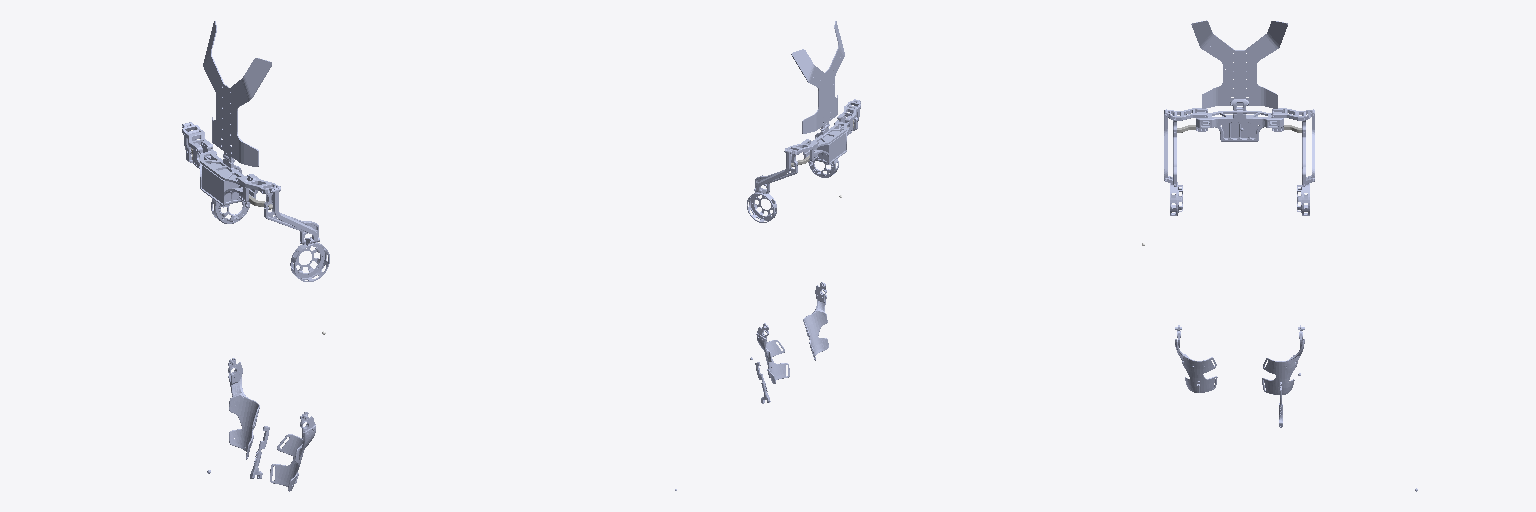
--- What the picture shows (computed from the rendered views, not written in the file) ---
The picture shows the robot from 3 angles, left to right: view 1: azimuth 30°, elevation 25°; view 2: azimuth 150°, elevation 25°; view 3: azimuth 270°, elevation 25°; orthographic projection.
Model all18.sldasm with 22 links and 21 joints (21 continuous), rooted at base_link, posed every joint at zero.
Visible links, largest first — view 1: up, base, kl, kr, LGR3; view 2: up, base, kr, kl, LGL3; view 3: up, base, kl, kr.
Boxes of the visible links, x1,y1,x2,y2 form: up: (203,21,271,166); base: (193,141,257,205); kl: (228,358,259,459); kr: (270,412,315,491); LGR3: (290,237,329,281); up: (791,21,844,133); base: (803,114,852,163); kr: (803,282,828,360); kl: (756,323,789,383); LGL3: (747,188,776,222); up: (1191,20,1287,113); base: (1196,109,1283,141); kl: (1262,325,1304,394); kr: (1175,325,1217,392).
Bounding box of the posed robot: 0.3131 × 0.8555 × 1.5 m (x, y, z).
Meshes: 22 distinct files referenced, 19 mesh visuals loaded (19 binary STL); not drawn: 3 (reference not matched to a file when rendering).

URDF robot description (all18.sldasm):
<?xml version="1.0" encoding="utf-8"?>
<!-- This URDF was automatically created by SolidWorks to URDF Exporter! Originally created by Stephen Brawner ([email redacted]) 
     Commit Version: 1.5.1-0-g916b5db  Build Version: 1.5.7152.31018
     For more information, please see http://wiki.ros.org/sw_urdf_exporter -->
<robot
  name="all18.sldasm">
  <link
    name="base_link">
    <inertial>
      <origin
        xyz="0.0333792456099275 0.00696796132744282 -0.181820132036536"
        rpy="0 0 0" />
      <mass
        value="0.000523598775598299" />
      <inertia
        ixx="5.23598775598299E-09"
        ixy="-3.14694645605544E-41"
        ixz="-4.97841222228891E-56"
        iyy="5.23598775598299E-09"
        iyz="0"
        izz="5.23598775598299E-09" />
    </inertial>
    <visual>
      <origin
        xyz="0 0 0"
        rpy="0 0 0" />
      <geometry>
        <mesh
          filename="package://all18.sldasm/meshes/base_link.STL" />
      </geometry>
      <material
        name="">
        <color
          rgba="0.792156862745098 0.819607843137255 0.933333333333333 1" />
      </material>
    </visual>
    <collision>
      <origin
        xyz="0 0 0"
        rpy="0 0 0" />
      <geometry>
        <mesh
          filename="package://all18.sldasm/meshes/base_link.STL" />
      </geometry>
    </collision>
  </link>
  <link
    name="base">
    <inertial>
      <origin
        xyz="-0.0191214293937686 0.0210000899951462 -0.0564412527734638"
        rpy="0 0 0" />
      <mass
        value="0.497818026810933" />
      <inertia
        ixx="0.00183492237382758"
        ixy="-2.81215869790794E-09"
        ixz="-6.12233490314299E-06"
        iyy="0.000327236183202989"
        iyz="-1.52757729457466E-09"
        izz="0.00171964399163047" />
    </inertial>
    <visual>
      <origin
        xyz="0 0 0"
        rpy="0 0 0" />
      <geometry>
        <mesh
          filename="package://all18.sldasm/meshes/base.STL" />
      </geometry>
      <material
        name="">
        <color
          rgba="0.792156862745098 0.819607843137255 0.933333333333333 1" />
      </material>
    </visual>
    <collision>
      <origin
        xyz="0 0 0"
        rpy="0 0 0" />
      <geometry>
        <mesh
          filename="package://all18.sldasm/meshes/base.STL" />
      </geometry>
    </collision>
  </link>
  <joint
    name="jbase"
    type="continuous">
    <origin
      xyz="0.00400000000000071 -0.0210004689290468 -0.135354546704202"
      rpy="0 0 0" />
    <parent
      link="base_link" />
    <child
      link="base" />
    <axis
      xyz="0 1 0" />
  </joint>
  <link
    name="up">
    <inertial>
      <origin
        xyz="-0.000358969853697724 0.0210176681596711 0.143821678022038"
        rpy="0 0 0" />
      <mass
        value="0.145045484251342" />
      <inertia
        ixx="0.00183495811461002"
        ixy="1.00718350566443E-08"
        ixz="-5.28890803610092E-05"
        iyy="0.0011112557556715"
        iyz="-5.85295320638727E-08"
        izz="0.000750996955240693" />
    </inertial>
    <visual>
      <origin
        xyz="0 0 0"
        rpy="0 0 0" />
      <geometry>
        <mesh
          filename="package://all18.sldasm/meshes/up.STL" />
      </geometry>
      <material
        name="">
        <color
          rgba="0.792156862745098 0.819607843137255 0.933333333333333 1" />
      </material>
    </visual>
    <collision>
      <origin
        xyz="0 0 0"
        rpy="0 0 0" />
      <geometry>
        <mesh
          filename="package://all18.sldasm/meshes/up.STL" />
      </geometry>
    </collision>
  </link>
  <joint
    name="jup"
    type="continuous">
    <origin
      xyz="0 0 0"
      rpy="0 0 0" />
    <parent
      link="base" />
    <child
      link="up" />
    <axis
      xyz="0 1 0" />
  </joint>
  <link
    name="hl0">
    <inertial>
      <origin
        xyz="-0.012444043654672 0.0630330454718175 0.00126114384973358"
        rpy="0 0 0" />
      <mass
        value="0.0345606498251114" />
      <inertia
        ixx="4.0820399272762E-05"
        ixy="-9.51733838576895E-06"
        ixz="-3.89843594001045E-07"
        iyy="1.29632372529317E-05"
        iyz="-2.23840344717383E-06"
        izz="5.24441566488473E-05" />
    </inertial>
    <visual>
      <origin
        xyz="0 0 0"
        rpy="0 0 0" />
      <geometry>
        <mesh
          filename="package://all18.sldasm/meshes/hl0.STL" />
      </geometry>
      <material
        name="">
        <color
          rgba="0.792156862745098 0.819607843137255 0.933333333333333 1" />
      </material>
    </visual>
    <collision>
      <origin
        xyz="0 0 0"
        rpy="0 0 0" />
      <geometry>
        <mesh
          filename="package://all18.sldasm/meshes/hl0.STL" />
      </geometry>
    </collision>
  </link>
  <joint
    name="jhl0"
    type="continuous">
    <origin
      xyz="0.0119999999999987 0.126 -0.00999999999999812"
      rpy="0 0 0" />
    <parent
      link="base" />
    <child
      link="hl0" />
    <axis
      xyz="-1 0 0" />
  </joint>
  <link
    name="LGL2">
    <inertial>
      <origin
        xyz="0.0303402345828551 -0.000238949225249835 -0.0921190713255071"
        rpy="0 0 0" />
      <mass
        value="0.0480025209039811" />
      <inertia
        ixx="0.000111770026393275"
        ixy="-1.92086992344369E-09"
        ixz="0.000102318757127282"
        iyy="0.000234605578738602"
        iyz="-1.8790706655784E-08"
        izz="0.000123763363972141" />
    </inertial>
    <visual>
      <origin
        xyz="0 0 0"
        rpy="0 0 0" />
      <geometry>
        <mesh
          filename="package://all18.sldasm/meshes/LGL2.STL" />
      </geometry>
      <material
        name="">
        <color
          rgba="0.792156862745098 0.819607843137255 0.933333333333333 1" />
      </material>
    </visual>
    <collision>
      <origin
        xyz="0 0 0"
        rpy="0 0 0" />
      <geometry>
        <mesh
          filename="package://all18.sldasm/meshes/LGL2.STL" />
      </geometry>
    </collision>
  </link>
  <joint
    name="JLGL2"
    type="continuous">
    <origin
      xyz="0.0199999999999986 0.0949999999999874 0"
      rpy="0 0 0" />
    <parent
      link="hl0" />
    <child
      link="LGL2" />
    <axis
      xyz="1 0 0" />
  </joint>
  <link
    name="LGL3">
    <inertial>
      <origin
        xyz="-0.0259705484850737 -0.000999385124667941 -0.0433603663769984"
        rpy="0 0 0" />
      <mass
        value="0.0440449672148023" />
      <inertia
        ixx="7.38602754378877E-05"
        ixy="2.68585858225746E-08"
        ixz="2.22587431264711E-08"
        iyy="0.000101802073587482"
        iyz="-8.37820730757103E-06"
        izz="4.16167541378933E-05" />
    </inertial>
    <visual>
      <origin
        xyz="0 0 0"
        rpy="0 0 0" />
      <geometry>
        <mesh
          filename="package://all18.sldasm/meshes/LGL3.STL" />
      </geometry>
      <material
        name="">
        <color
          rgba="0.792156862745098 0.819607843137255 0.933333333333333 1" />
      </material>
    </visual>
    <collision>
      <origin
        xyz="0 0 0"
        rpy="0 0 0" />
      <geometry>
        <mesh
          filename="package://all18.sldasm/meshes/LGL3.STL" />
      </geometry>
    </collision>
  </link>
  <joint
    name="JLGL3"
    type="continuous">
    <origin
      xyz="0.118500000000001 0 -0.169999997278064"
      rpy="0 0 0" />
    <parent
      link="LGL2" />
    <child
      link="LGL3" />
    <axis
      xyz="-1 0 0" />
  </joint>
  <link
    name="LGL4">
    <inertial>
      <origin
        xyz="-0.0815101633243112 0.00090998729349458 0.0773021473229439"
        rpy="0 0 0" />
      <mass
        value="0.0247761471784957" />
      <inertia
        ixx="5.74694326140297E-05"
        ixy="1.68748777548126E-07"
        ixz="4.91847237830646E-05"
        iyy="0.000105893052871461"
        iyz="-8.42574317637952E-08"
        izz="4.90008441529051E-05" />
    </inertial>
    <visual>
      <origin
        xyz="0 0 0"
        rpy="0 0 0" />
      <geometry>
        <mesh
          filename="package://all18.sldasm/meshes/LGL4.STL" />
      </geometry>
      <material
        name="">
        <color
          rgba="0.792156862745098 0.819607843137255 0.933333333333333 1" />
      </material>
    </visual>
    <collision>
      <origin
        xyz="0 0 0"
        rpy="0 0 0" />
      <geometry>
        <mesh
          filename="package://all18.sldasm/meshes/LGL4.STL" />
      </geometry>
    </collision>
  </link>
  <joint
    name="JLGL4"
    type="continuous">
    <origin
      xyz="-0.0125 0.0281907786235769 0.0102606042997705"
      rpy="0 0 0" />
    <parent
      link="LGL3" />
    <child
      link="LGL4" />
    <axis
      xyz="1 0 0" />
  </joint>
  <link
    name="Q">
    <inertial>
      <origin
        xyz="0.00737924560992977 -0.221222347469288 -0.046726143074364"
        rpy="0 0 0" />
      <mass
        value="0.000523598775598299" />
      <inertia
        ixx="5.23598775598299E-09"
        ixy="-3.14694645605544E-41"
        ixz="-4.97841222228891E-56"
        iyy="5.23598775598299E-09"
        iyz="0"
        izz="5.23598775598299E-09" />
    </inertial>
    <visual>
      <origin
        xyz="0 0 0"
        rpy="0 0 0" />
      <geometry>
        <mesh
          filename="package://all18.sldasm/meshes/Q.STL" />
      </geometry>
      <material
        name="">
        <color
          rgba="0.792156862745098 0.819607843137255 0.933333333333333 1" />
      </material>
    </visual>
    <collision>
      <origin
        xyz="0 0 0"
        rpy="0 0 0" />
      <geometry>
        <mesh
          filename="package://all18.sldasm/meshes/Q.STL" />
      </geometry>
    </collision>
  </link>
  <joint
    name="JQ"
    type="continuous">
    <origin
      xyz="-0.116000000000001 0 0.169999999744713"
      rpy="0 0 0" />
    <parent
      link="LGL4" />
    <child
      link="Q" />
    <axis
      xyz="1 0 0" />
  </joint>
  <link
    name="hl1">
    <inertial>
      <origin
        xyz="0.0133498937147595 -0.0238046214490557 -0.172664834958128"
        rpy="0 0 0" />
      <mass
        value="1.01104308189925" />
      <inertia
        ixx="0.00145265002912084"
        ixy="8.0433424924099E-05"
        ixz="-0.000112470355803545"
        iyy="0.00176407136725321"
        iyz="-1.28353527421716E-05"
        izz="0.000926948423015179" />
    </inertial>
    <visual>
      <origin
        xyz="0 0 0"
        rpy="0 0 0" />
      <geometry>
        <mesh
          filename="package://all18.sldasm/meshes/hl1.STL" />
      </geometry>
      <material
        name="">
        <color
          rgba="0.792156862745098 0.819607843137255 0.933333333333333 1" />
      </material>
    </visual>
    <collision>
      <origin
        xyz="0 0 0"
        rpy="0 0 0" />
      <geometry>
        <mesh
          filename="package://all18.sldasm/meshes/hl1.STL" />
      </geometry>
    </collision>
  </link>
  <joint
    name="jhl1"
    type="continuous">
    <origin
      xyz="-0.0260000021964453 0.00514093216985746 -0.06179130036624"
      rpy="0 0 0" />
    <parent
      link="LGL3" />
    <child
      link="hl1" />
    <axis
      xyz="0 1 0" />
  </joint>
  <link
    name="kl">
    <inertial>
      <origin
        xyz="0.0333224268442176 -0.0406715046714338 -0.0929075490419892"
        rpy="0 0 0" />
      <mass
        value="0.0788046240275913" />
      <inertia
        ixx="0.000272384188746931"
        ixy="1.63113405200858E-05"
        ixz="2.0707066924017E-05"
        iyy="0.000195539432878404"
        iyz="-7.85136563050533E-05"
        izz="0.000101363064081106" />
    </inertial>
    <visual>
      <origin
        xyz="0 0 0"
        rpy="0 0 0" />
      <geometry>
        <mesh
          filename="package://all18.sldasm/meshes/kl.STL" />
      </geometry>
      <material
        name="">
        <color
          rgba="0.792156862745098 0.819607843137255 0.933333333333333 1" />
      </material>
    </visual>
    <collision>
      <origin
        xyz="0 0 0"
        rpy="0 0 0" />
      <geometry>
        <mesh
          filename="package://all18.sldasm/meshes/kl.STL" />
      </geometry>
    </collision>
  </link>
  <joint
    name="jkl"
    type="continuous">
    <origin
      xyz="-0.00552885197136085 -0.0155925666722328 -0.466487667780456"
      rpy="0 0 0" />
    <parent
      link="hl1" />
    <child
      link="kl" />
    <axis
      xyz="0 1 0" />
  </joint>
  <link
    name="laz">
    <inertial>
      <origin
        xyz="0.00323260978148331 -3.41763886635427E-09 -0.0781723384397688"
        rpy="0 0 0" />
      <mass
        value="0.017465708692541" />
      <inertia
        ixx="1.07154278113196E-05"
        ixy="2.15904603301283E-11"
        ixz="-3.72523751477519E-07"
        iyy="1.14184647460219E-05"
        iyz="1.41917143060981E-11"
        izz="1.01857895731504E-06" />
    </inertial>
    <visual>
      <origin
        xyz="0 0 0"
        rpy="0 0 0" />
      <geometry>
        <mesh
          filename="package://all18.sldasm/meshes/laz.STL" />
      </geometry>
      <material
        name="">
        <color
          rgba="0.792156862745098 0.819607843137255 0.933333333333333 1" />
      </material>
    </visual>
    <collision>
      <origin
        xyz="0 0 0"
        rpy="0 0 0" />
      <geometry>
        <mesh
          filename="package://all18.sldasm/meshes/laz.STL" />
      </geometry>
    </collision>
  </link>
  <joint
    name="jlaz"
    type="continuous">
    <origin
      xyz="0.0627688477282864 -0.0624533739550739 -0.14875730407774"
      rpy="0 0 0" />
    <parent
      link="kl" />
    <child
      link="laz" />
    <axis
      xyz="-0.0180338394426846 0 -0.999837377094373" />
  </joint>
  <link
    name="LGL5">
    <inertial>
      <origin
        xyz="-0.0295043372043891 -0.0463054507876196 5.2106408894359E-05"
        rpy="0 0 0" />
      <mass
        value="0.0149926496755023" />
      <inertia
        ixx="1.23694306884942E-05"
        ixy="-3.04663709334515E-06"
        ixz="1.00130982367423E-10"
        iyy="1.39553354047269E-06"
        iyz="-6.49001565136249E-10"
        izz="1.34138114240442E-05" />
    </inertial>
    <visual>
      <origin
        xyz="0 0 0"
        rpy="0 0 0" />
      <geometry>
        <mesh
          filename="package://all18.sldasm/meshes/LGL5.STL" />
      </geometry>
      <material
        name="">
        <color
          rgba="0.752941176470588 0.752941176470588 0.752941176470588 1" />
      </material>
    </visual>
    <collision>
      <origin
        xyz="0 0 0"
        rpy="0 0 0" />
      <geometry>
        <mesh
          filename="package://all18.sldasm/meshes/LGL5.STL" />
      </geometry>
    </collision>
  </link>
  <joint
    name="JLGL5"
    type="continuous">
    <origin
      xyz="-0.00749999999999955 0 -0.04999999763965"
      rpy="0 0 0" />
    <parent
      link="LGL2" />
    <child
      link="LGL5" />
    <axis
      xyz="1 0 0" />
  </joint>
  <link
    name="W">
    <inertial>
      <origin
        xyz="0.0258792456099279 -0.0980315697435112 0.0135344146676633"
        rpy="0 0 0" />
      <mass
        value="0.000523598775598299" />
      <inertia
        ixx="5.23598775598299E-09"
        ixy="-3.14694645605544E-41"
        ixz="-4.97841222228891E-56"
        iyy="5.23598775598299E-09"
        iyz="0"
        izz="5.23598775598299E-09" />
    </inertial>
    <visual>
      <origin
        xyz="0 0 0"
        rpy="0 0 0" />
      <geometry>
        <mesh
          filename="package://all18.sldasm/meshes/W.STL" />
      </geometry>
      <material
        name="">
        <color
          rgba="0.792156862745098 0.819607843137255 0.933333333333333 1" />
      </material>
    </visual>
    <collision>
      <origin
        xyz="0 0 0"
        rpy="0 0 0" />
      <geometry>
        <mesh
          filename="package://all18.sldasm/meshes/W.STL" />
      </geometry>
    </collision>
  </link>
  <joint
    name="JW"
    type="continuous">
    <origin
      xyz="-0.0209999999999989 -0.0949999999999889 0"
      rpy="0 0 0" />
    <parent
      link="LGL5" />
    <child
      link="W" />
    <axis
      xyz="1 0 0" />
  </joint>
  <link
    name="hr0">
    <inertial>
      <origin
        xyz="-0.0124440425839899 -0.0630330438495321 0.00126112872924455"
        rpy="0 0 0" />
      <mass
        value="0.0345606512450045" />
      <inertia
        ixx="4.08203810730217E-05"
        ixy="9.51733756197713E-06"
        ixz="-3.89838276140267E-07"
        iyy="1.29632324198126E-05"
        iyz="2.23837388192549E-06"
        izz="5.24441456477098E-05" />
    </inertial>
    <visual>
      <origin
        xyz="0 0 0"
        rpy="0 0 0" />
      <geometry>
        <mesh
          filename="package://all18.sldasm/meshes/hr0.STL" />
      </geometry>
      <material
        name="">
        <color
          rgba="0.792156862745098 0.819607843137255 0.933333333333333 1" />
      </material>
    </visual>
    <collision>
      <origin
        xyz="0 0 0"
        rpy="0 0 0" />
      <geometry>
        <mesh
          filename="package://all18.sldasm/meshes/hr0.STL" />
      </geometry>
    </collision>
  </link>
  <joint
    name="jhr0"
    type="continuous">
    <origin
      xyz="0.0120000000000003 -0.0840000000000005 -0.010000000000002"
      rpy="0 0 0" />
    <parent
      link="base" />
    <child
      link="hr0" />
    <axis
      xyz="-1 0 0" />
  </joint>
  <link
    name="LGR2">
    <inertial>
      <origin
        xyz="0.0303402875277209 0.000238954351489296 -0.0921190918466555"
        rpy="0 0 0" />
      <mass
        value="0.0480025630196165" />
      <inertia
        ixx="0.000111770056835883"
        ixy="1.90833891765353E-09"
        ixz="0.00010231881547354"
        iyy="0.000234605746064627"
        iyz="1.87952281801939E-08"
        izz="0.00012376350264109" />
    </inertial>
    <visual>
      <origin
        xyz="0 0 0"
        rpy="0 0 0" />
      <geometry>
        <mesh
          filename="package://all18.sldasm/meshes/LGR2.STL" />
      </geometry>
      <material
        name="">
        <color
          rgba="0.792156862745098 0.819607843137255 0.933333333333333 1" />
      </material>
    </visual>
    <collision>
      <origin
        xyz="0 0 0"
        rpy="0 0 0" />
      <geometry>
        <mesh
          filename="package://all18.sldasm/meshes/LGR2.STL" />
      </geometry>
    </collision>
  </link>
  <joint
    name="JLGR2"
    type="continuous">
    <origin
      xyz="0.020000000000001 -0.0949999999999869 0"
      rpy="0 0 0" />
    <parent
      link="hr0" />
    <child
      link="LGR2" />
    <axis
      xyz="1 0 0" />
  </joint>
  <link
    name="LGR3">
    <inertial>
      <origin
        xyz="-0.026029451797925 0.000999385107291528 -0.0433603662950159"
        rpy="0 0 0" />
      <mass
        value="0.0440449673833386" />
      <inertia
        ixx="7.38602755028676E-05"
        ixy="2.68584144567964E-08"
        ixz="-2.225841178535E-08"
        iyy="0.000101802073674459"
        iyz="8.37820731923215E-06"
        izz="4.16167541380746E-05" />
    </inertial>
    <visual>
      <origin
        xyz="0 0 0"
        rpy="0 0 0" />
      <geometry>
        <mesh
          filename="package://all18.sldasm/meshes/LGR3.STL" />
      </geometry>
      <material
        name="">
        <color
          rgba="0.792156862745098 0.819607843137255 0.933333333333333 1" />
      </material>
    </visual>
    <collision>
      <origin
        xyz="0 0 0"
        rpy="0 0 0" />
      <geometry>
        <mesh
          filename="package://all18.sldasm/meshes/LGR3.STL" />
      </geometry>
    </collision>
  </link>
  <joint
    name="JLGR3"
    type="continuous">
    <origin
      xyz="0.118500000000001 0 -0.169999997278063"
      rpy="0 0 0" />
    <parent
      link="LGR2" />
    <child
      link="LGR3" />
    <axis
      xyz="-1 0 0" />
  </joint>
  <link
    name="LGR4">
    <inertial>
      <origin
        xyz="-0.0815099189923016 -0.000909987478768359 0.0773019618123106"
        rpy="0 0 0" />
      <mass
        value="0.024775859664522" />
      <inertia
        ixx="5.74693498807819E-05"
        ixy="-1.68752282875726E-07"
        ixz="4.91845861894577E-05"
        iyy="0.000105892734837817"
        iyz="8.42598805758962E-08"
        izz="4.90006086288347E-05" />
    </inertial>
    <visual>
      <origin
        xyz="0 0 0"
        rpy="0 0 0" />
      <geometry>
        <mesh
          filename="package://all18.sldasm/meshes/LGR4.STL" />
      </geometry>
      <material
        name="">
        <color
          rgba="0.792156862745098 0.819607843137255 0.933333333333333 1" />
      </material>
    </visual>
    <collision>
      <origin
        xyz="0 0 0"
        rpy="0 0 0" />
      <geometry>
        <mesh
          filename="package://all18.sldasm/meshes/LGR4.STL" />
      </geometry>
    </collision>
  </link>
  <joint
    name="JLGR4"
    type="continuous">
    <origin
      xyz="-0.0124999999999998 -0.0281907786235776 0.0102606042997697"
      rpy="0 0 0" />
    <parent
      link="LGR3" />
    <child
      link="LGR4" />
    <axis
      xyz="1 0 0" />
  </joint>
  <link
    name="QQ">
    <inertial>
      <origin
        xyz="0.0258792456099257 0.111968430256489 0.0135344146676662"
        rpy="0 0 0" />
      <mass
        value="0.000523598775598299" />
      <inertia
        ixx="5.23598775598299E-09"
        ixy="-3.14694645605544E-41"
        ixz="-4.97841222228891E-56"
        iyy="5.23598775598299E-09"
        iyz="0"
        izz="5.23598775598299E-09" />
    </inertial>
    <visual>
      <origin
        xyz="0 0 0"
        rpy="0 0 0" />
      <geometry>
        <mesh
          filename="package://all18.sldasm/meshes/QQ.STL" />
      </geometry>
      <material
        name="">
        <color
          rgba="0.792156862745098 0.819607843137255 0.933333333333333 1" />
      </material>
    </visual>
    <collision>
      <origin
        xyz="0 0 0"
        rpy="0 0 0" />
      <geometry>
        <mesh
          filename="package://all18.sldasm/meshes/QQ.STL" />
      </geometry>
    </collision>
  </link>
  <joint
    name="JQQ"
    type="continuous">
    <origin
      xyz="-0.134500000000002 0.123200094236836 0.109739442002689"
      rpy="0 0 0" />
    <parent
      link="LGR4" />
    <child
      link="QQ" />
    <axis
      xyz="1 0 0" />
  </joint>
  <link
    name="hr1">
    <inertial>
      <origin
        xyz="0.0130834240735185 0.0237236363780169 -0.172316052457163"
        rpy="0 0 0" />
      <mass
        value="1.00830188359462" />
      <inertia
        ixx="0.00145122644714664"
        ixy="-7.95874934733648E-05"
        ixz="-0.000118810763484627"
        iyy="0.00176339063031824"
        iyz="1.43734483789115E-05"
        izz="0.000927671733876011" />
    </inertial>
    <visual>
      <origin
        xyz="0 0 0"
        rpy="0 0 0" />
      <geometry>
        <mesh
          filename="package://all18.sldasm/meshes/hr1.STL" />
      </geometry>
      <material
        name="">
        <color
          rgba="0.792156862745098 0.819607843137255 0.933333333333333 1" />
      </material>
    </visual>
    <collision>
      <origin
        xyz="0 0 0"
        rpy="0 0 0" />
      <geometry>
        <mesh
          filename="package://all18.sldasm/meshes/hr1.STL" />
      </geometry>
    </collision>
  </link>
  <joint
    name="jhr1"
    type="continuous">
    <origin
      xyz="-0.0259999978035542 -0.00514093216985634 -0.0617913003662402"
      rpy="0 0 0" />
    <parent
      link="LGR3" />
    <child
      link="hr1" />
    <axis
      xyz="0 -1 0" />
  </joint>
  <link
    name="kr">
    <inertial>
      <origin
        xyz="0.0372507288202393 0.0459505488503911 -0.107920415168121"
        rpy="0 0 0" />
      <mass
        value="0.0678333218810008" />
      <inertia
        ixx="0.000268701652086822"
        ixy="-1.63973572747645E-05"
        ixz="1.97678140358497E-05"
        iyy="0.000190432746251649"
        iyz="7.84641148535466E-05"
        izz="9.97855116434662E-05" />
    </inertial>
    <visual>
      <origin
        xyz="0 0 0"
        rpy="0 0 0" />
      <geometry>
        <mesh
          filename="package://all18.sldasm/meshes/kr.STL" />
      </geometry>
      <material
        name="">
        <color
          rgba="0.792156862745098 0.819607843137255 0.933333333333333 1" />
      </material>
    </visual>
    <collision>
      <origin
        xyz="0 0 0"
        rpy="0 0 0" />
      <geometry>
        <mesh
          filename="package://all18.sldasm/meshes/kr.STL" />
      </geometry>
    </collision>
  </link>
  <joint
    name="jkr"
    type="continuous">
    <origin
      xyz="-0.00948768787127001 0.0160925667691815 -0.466663550621361"
      rpy="0 0 0" />
    <parent
      link="hr1" />
    <child
      link="kr" />
    <axis
      xyz="0 -1 0" />
  </joint>
  <link
    name="LGR5">
    <inertial>
      <origin
        xyz="-0.0295043372043607 0.0463054508388104 -5.20609183857212E-05"
        rpy="0 0 0" />
      <mass
        value="0.0149926496755723" />
      <inertia
        ixx="1.23694306885358E-05"
        ixy="3.04663709344402E-06"
        ixz="-9.71379620432482E-11"
        iyy="1.39553354176249E-06"
        iyz="-6.60808333419368E-10"
        izz="1.34138114228007E-05" />
    </inertial>
    <visual>
      <origin
        xyz="0 0 0"
        rpy="0 0 0" />
      <geometry>
        <mesh
          filename="package://all18.sldasm/meshes/LGR5.STL" />
      </geometry>
      <material
        name="">
        <color
          rgba="0.752941176470588 0.752941176470588 0.752941176470588 1" />
      </material>
    </visual>
    <collision>
      <origin
        xyz="0 0 0"
        rpy="0 0 0" />
      <geometry>
        <mesh
          filename="package://all18.sldasm/meshes/LGR5.STL" />
      </geometry>
    </collision>
  </link>
  <joint
    name="JLGR5"
    type="continuous">
    <origin
      xyz="-0.00749999999999906 0 -0.0499999976396491"
      rpy="0 0 0" />
    <parent
      link="LGR2" />
    <child
      link="LGR5" />
    <axis
      xyz="1 0 0" />
  </joint>
  <link
    name="WW">
    <inertial>
      <origin
        xyz="0.0783125137450799 0.228931139718852 -0.341303438274219"
        rpy="0 0 0" />
      <mass
        value="3.24600512308579" />
      <inertia
        ixx="0.334434496720483"
        ixy="-0.00015351158430259"
        ixz="0.0460392899400449"
        iyy="0.260169463432138"
        iyz="0.00080043000726521"
        izz="0.107481102111202" />
    </inertial>
    <visual>
      <origin
        xyz="0 0 0"
        rpy="0 0 0" />
      <geometry>
        <mesh
          filename="package://all18.sldasm/meshes/WW.STL" />
      </geometry>
      <material
        name="">
        <color
          rgba="1 1 1 1" />
      </material>
    </visual>
    <collision>
      <origin
        xyz="0 0 0"
        rpy="0 0 0" />
      <geometry>
        <mesh
          filename="package://all18.sldasm/meshes/WW.STL" />
      </geometry>
    </collision>
  </link>
  <joint
    name="JWW"
    type="continuous">
    <origin
      xyz="-0.00250000000000023 -0.0281907777257897 0.0602606044060692"
      rpy="0 0 0" />
    <parent
      link="LGR5" />
    <child
      link="WW" />
    <axis
      xyz="1 0 0" />
  </joint>
</robot>
